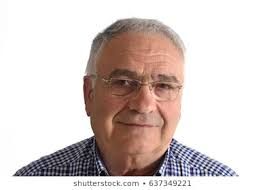white_male: (84, 33, 182, 146)
